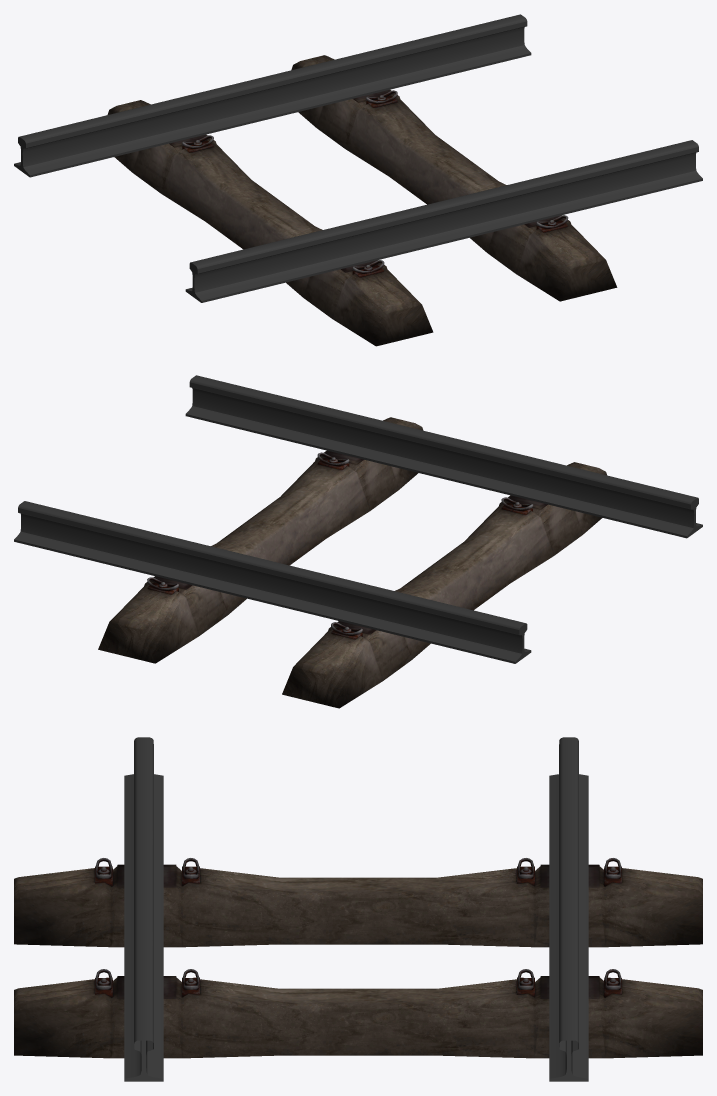
The model's file is RailPiece.FBX.
3 renders of one model, top to bottom at view 1: azimuth 30°, elevation 25°; view 2: azimuth 150°, elevation 25°; view 3: azimuth 270°, elevation 25°, orthographic. The views are drawn at different scales.
Parts seen in each view (by area): view 1: RailPiece; view 2: RailPiece; view 3: RailPiece.
Part boxes in pixels (<box>): RailPiece: <box>14,14,702,346</box>; RailPiece: <box>14,375,702,708</box>; RailPiece: <box>14,737,702,1081</box>.
Bounding box in the file's own units: 273 × 262 × 39.3.
